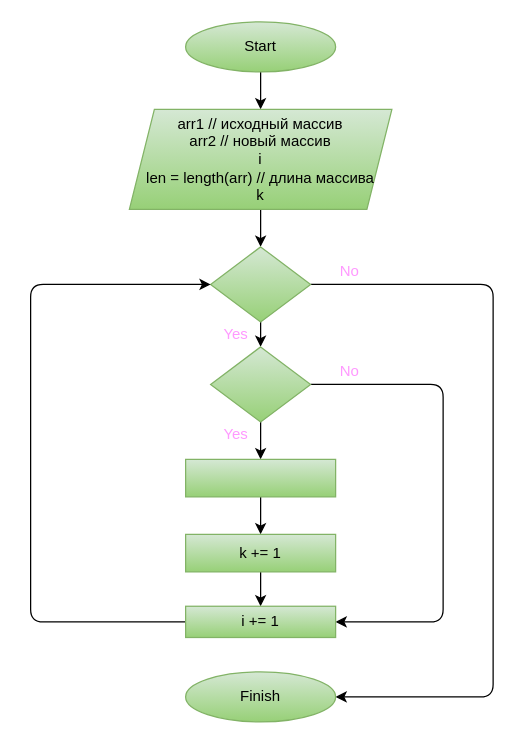
The diagram is 525 pixels wide and 744 high, and some of its shapes have lost their labels. Each missing label, with the centre of its shape:
arr1[i] <= 3: (x=260, y=384)
arr2[k] = arr1[i]: (x=260, y=477)
i < len: (x=260, y=284)
